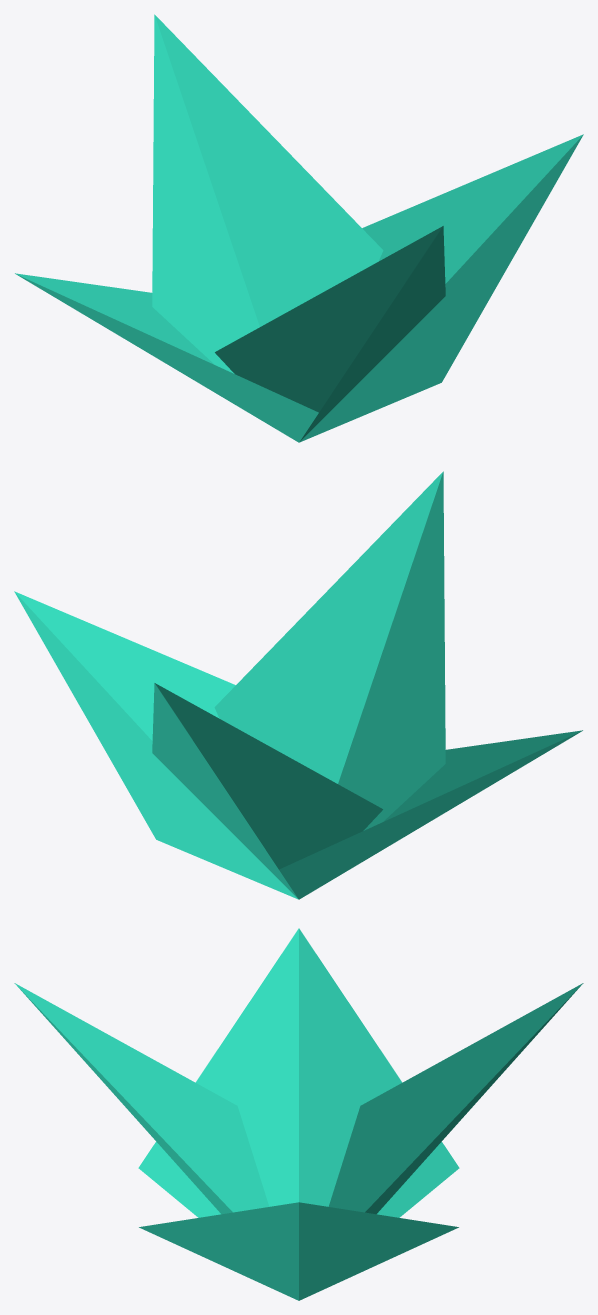
The model's file is plant_bushSmall.fbx.
3 views of the same model, one above another, from view 1: azimuth 30°, elevation 25°; view 2: azimuth 150°, elevation 25°; view 3: azimuth 270°, elevation 25° (orthographic).
Parts seen in each view (by area): view 1: plant_bushSmall; view 2: plant_bushSmall; view 3: plant_bushSmall.
Boxes of the visible parts, bbox=[...] form: plant_bushSmall: bbox=[15, 14, 583, 442]; plant_bushSmall: bbox=[14, 471, 582, 899]; plant_bushSmall: bbox=[14, 928, 583, 1300].
Size of the model in its own units: 3.83 by 2.07 by 3.36.
